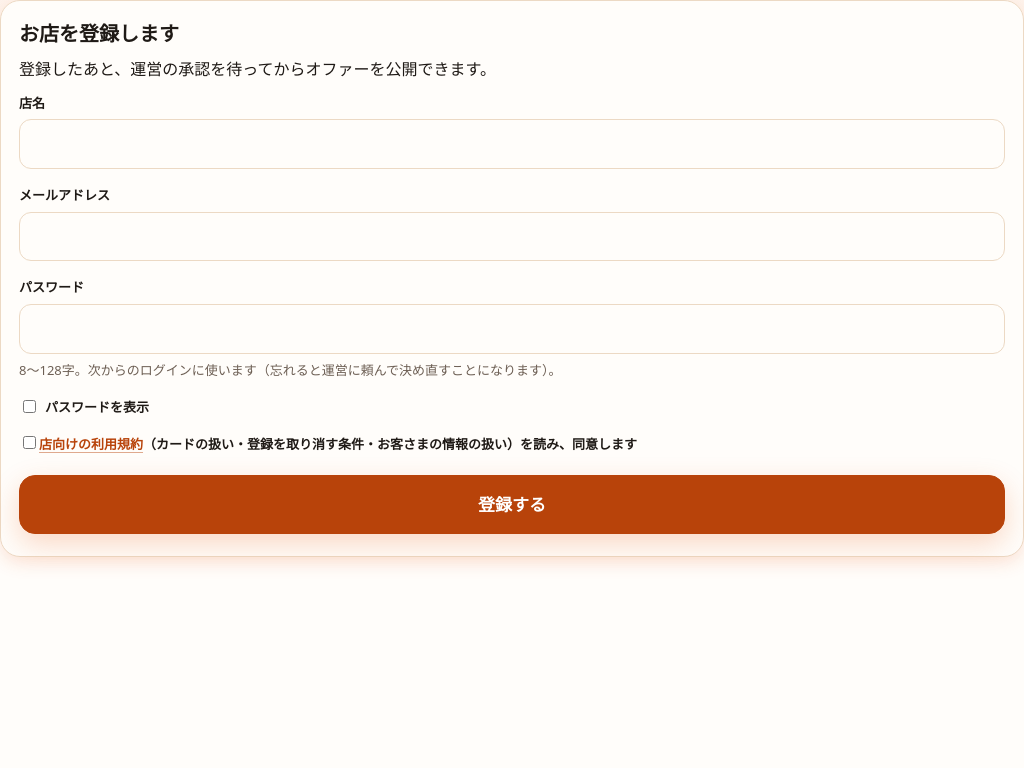
店の登録のパスワードの欄（店-20） › パスワードの欄の断りでは消す
This screenshot has width=1024, height=768.
Step 1. Type "検査の店" into the field with test id "field-name" → (512, 144), box [19, 119, 1005, 169]
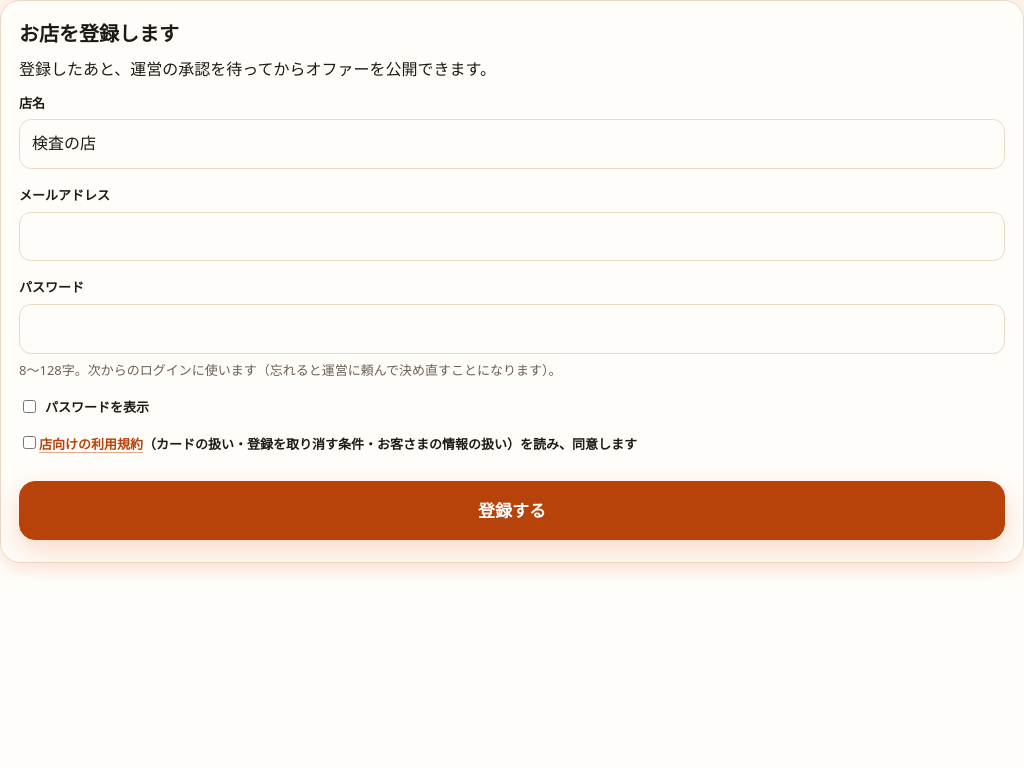
Step 2. Type "dup@example.com" into the field with test id "field-email" → (512, 237), box [19, 212, 1005, 261]
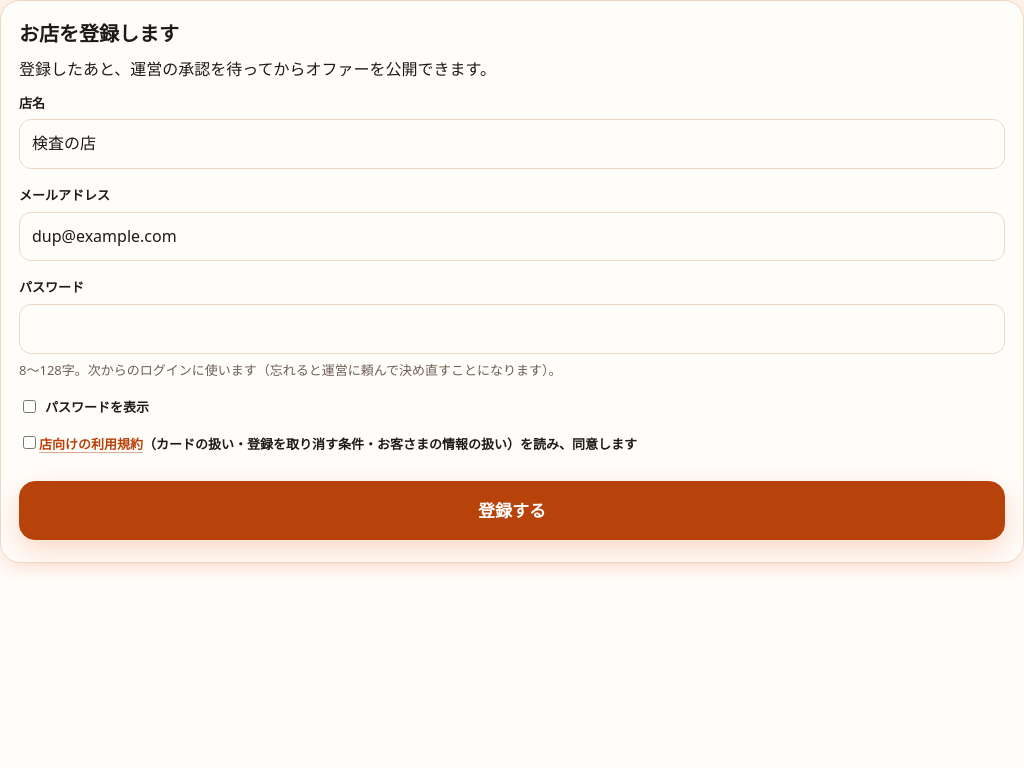
Step 3. Type "store-pass-1234" into the password field with test id "field-password" → (512, 329), box [19, 304, 1005, 354]
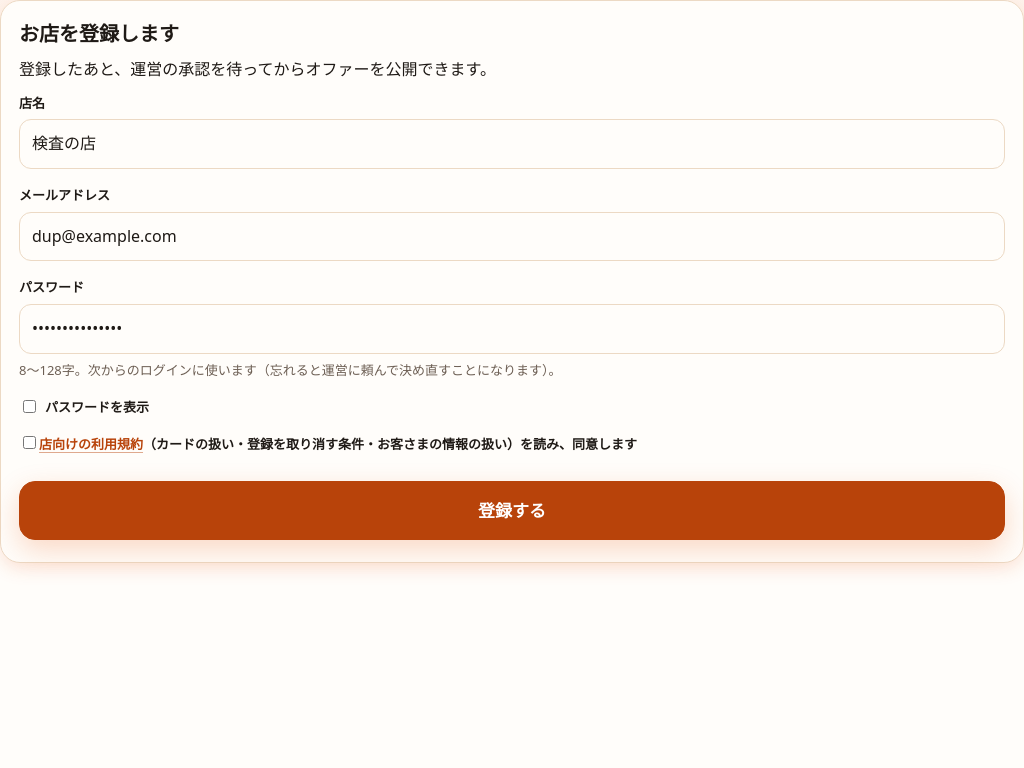
Step 4. Click the checkbox with test id "field-agreeTerms" → click(30, 443), box [23, 436, 36, 449]
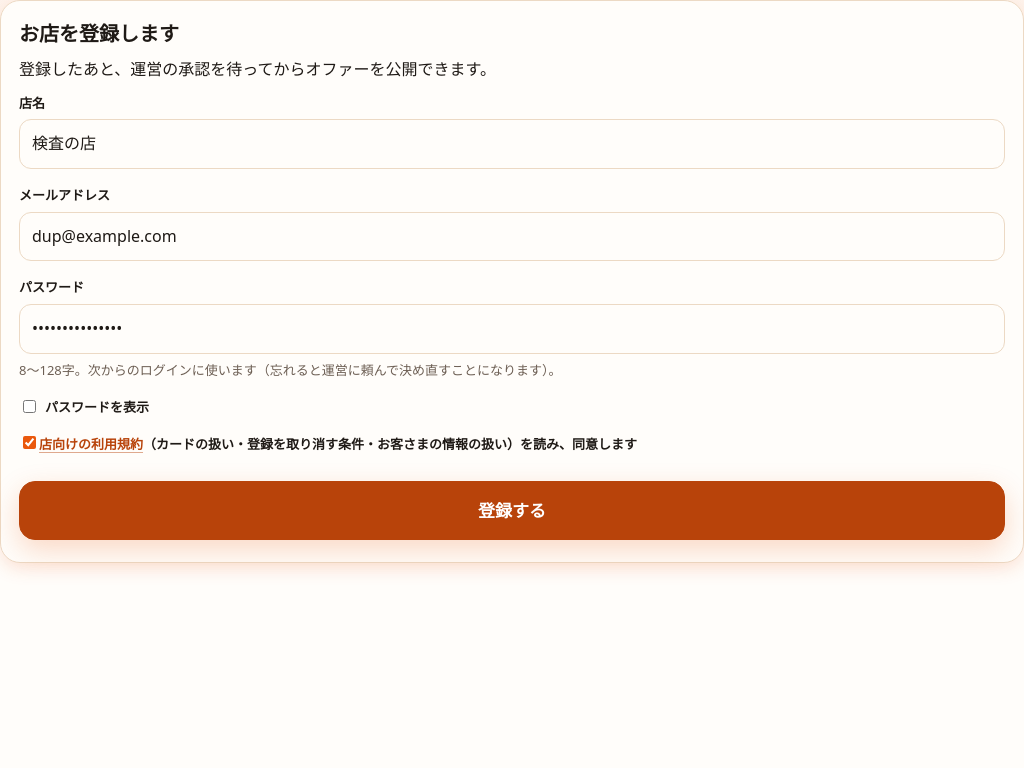
Step 5. Click the button with test id "btn-register" → click(512, 511), box [19, 481, 1005, 540]
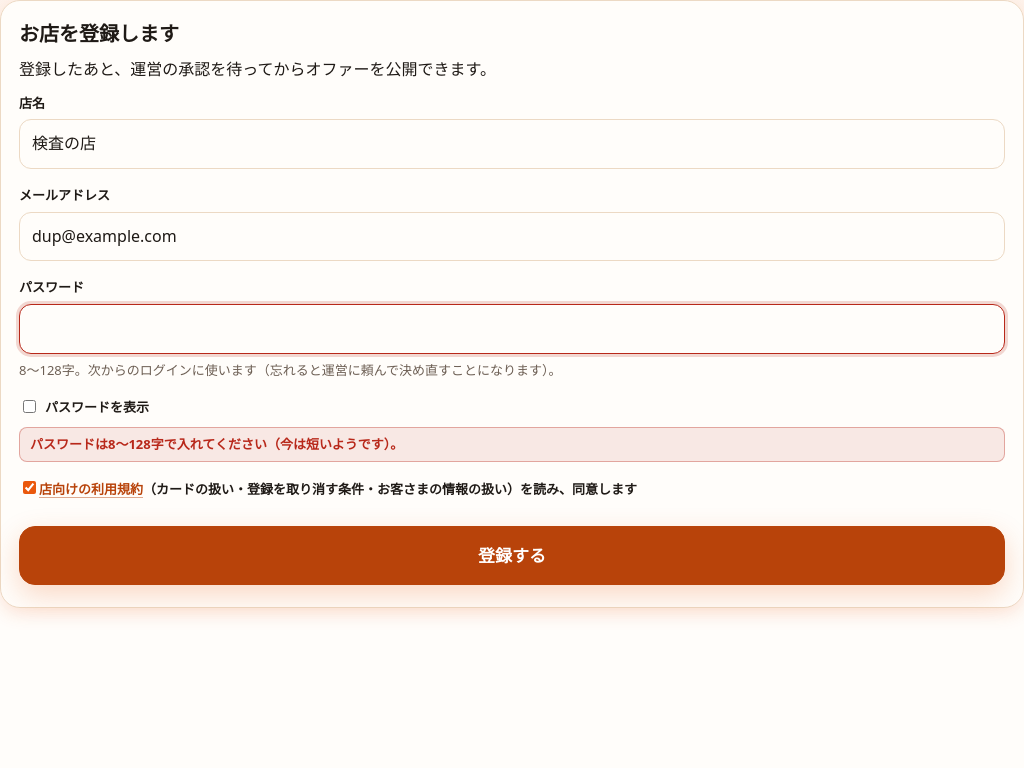
Expected: the message "パスワードは8〜128字で入れてください（今は短いようです）。" is shown, [19, 427, 1005, 462]
Expected: the password field with test id "field-password" is empty, [19, 304, 1005, 354]
